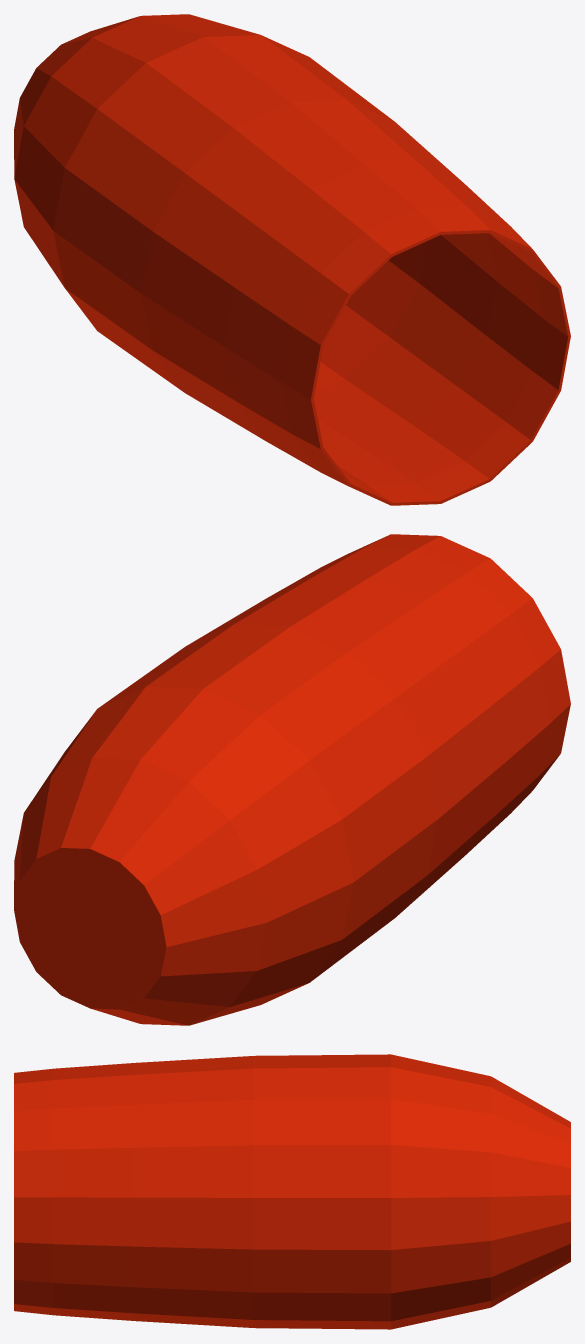
The model's file is milk_geometry_0.obj.
3 views of the same model, one above another, from view 1: azimuth 30°, elevation 25°; view 2: azimuth 150°, elevation 25°; view 3: azimuth 270°, elevation 25° (orthographic). The views are drawn at different scales.
Bounding box in the file's own units: 0.0784 × 0.0784 × 0.1586.
